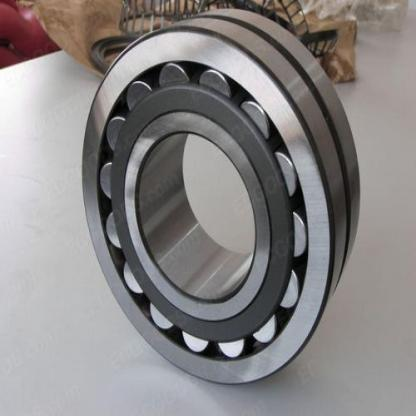FOD: (78, 1, 365, 389)
